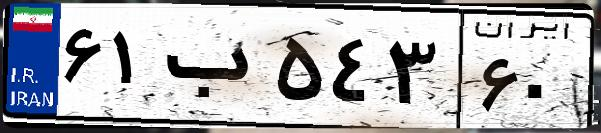0: (525, 38, 570, 115)
1: (110, 28, 158, 98)
3: (385, 28, 445, 110)
4: (330, 28, 385, 110)
5: (270, 28, 330, 110)
6: (57, 26, 110, 100), (475, 38, 525, 113)
ب: (158, 20, 270, 120)
